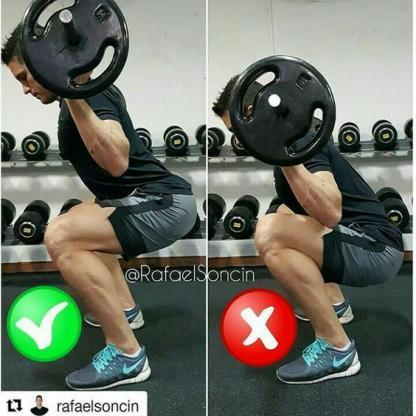Barbell: (60, 10, 75, 27), (270, 94, 283, 109)
